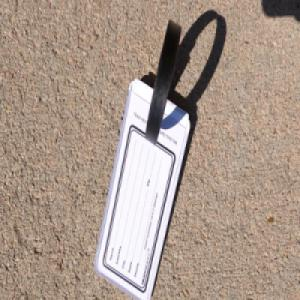LuggageTag: (92, 13, 190, 298)
